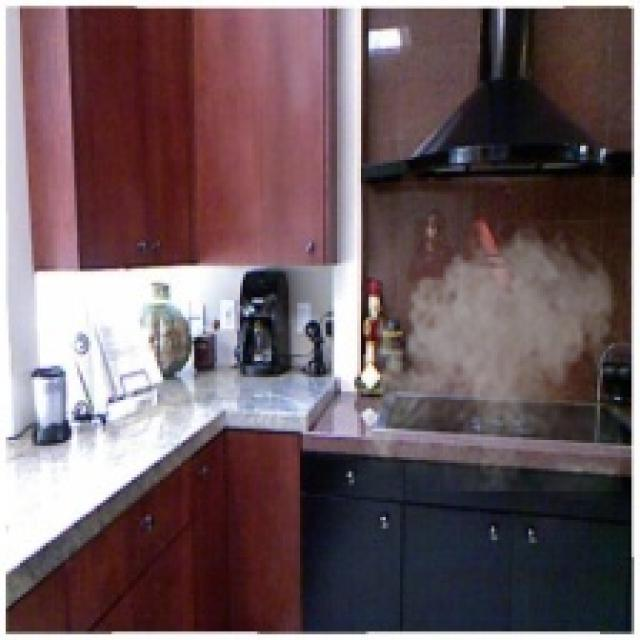smoke: (357, 217, 623, 492)
